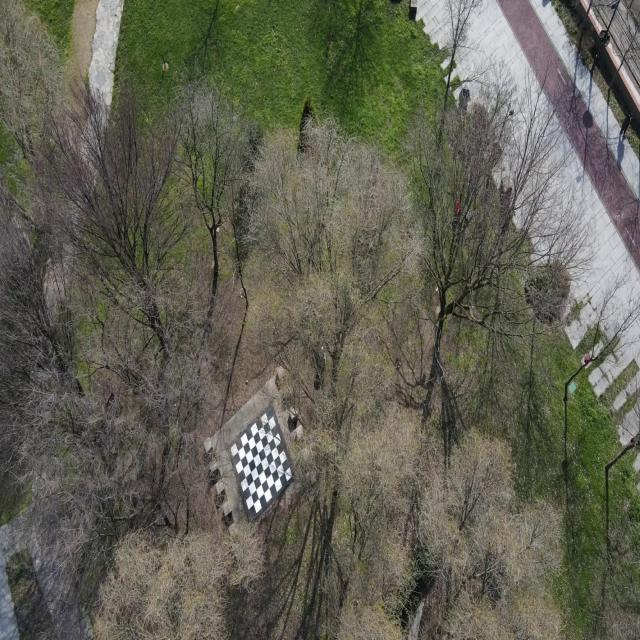p3rson: (620, 112, 634, 140)
